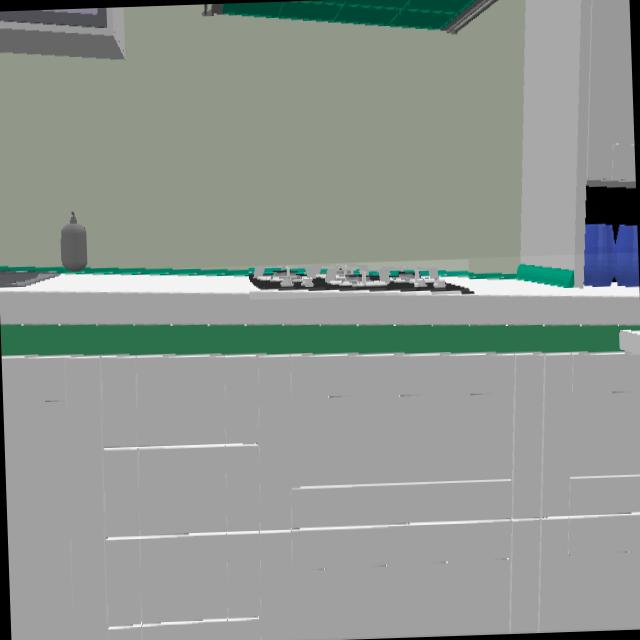cabinet: (1, 351, 640, 640)
countertop: (0, 271, 640, 356)
stove: (250, 267, 466, 292)
